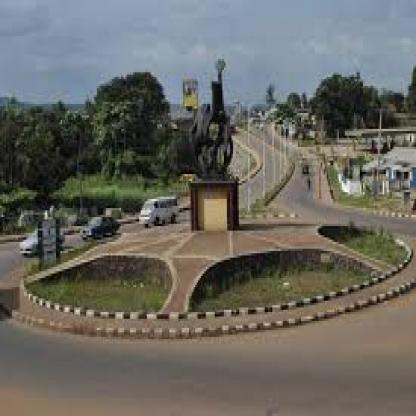car: (132, 176, 186, 238), (18, 206, 66, 262), (86, 199, 122, 248)
